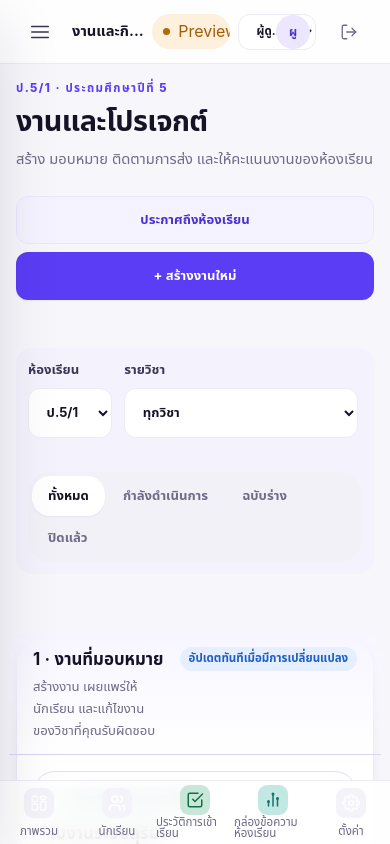
Test: the work form › keeps a deadline preset to the end of the school day
This screenshot has width=390, height=844.
Click the button "+ สร้างงานใหม่": (195, 276) top-left (16, 252), bottom-right (374, 300)
(page scrolled)
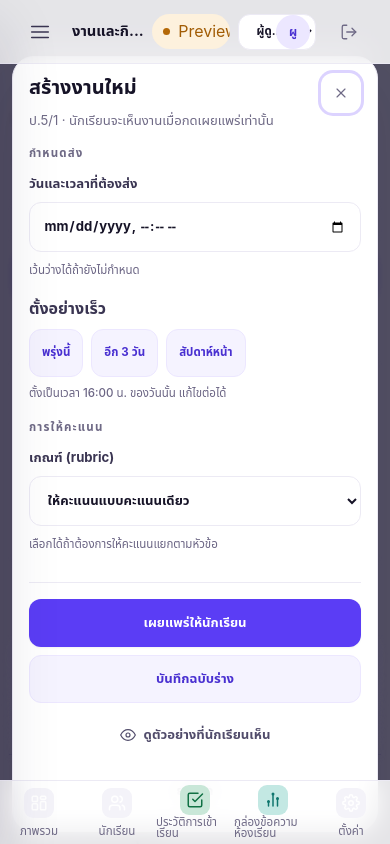
Click the button "พรุ่งนี้": (56, 353) top-left (29, 329), bottom-right (83, 377)
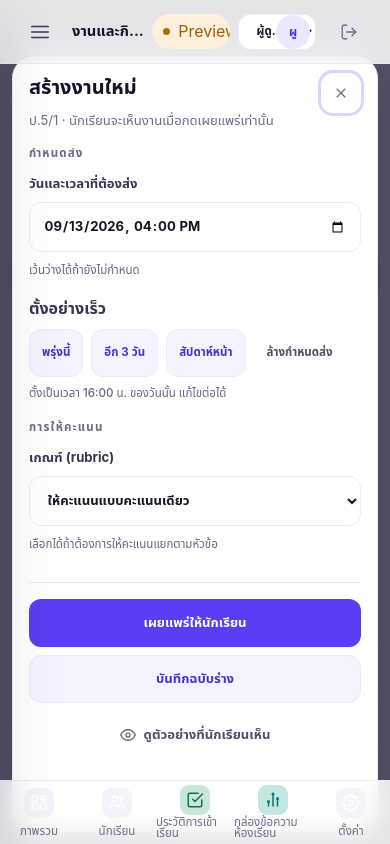
Now the field labelled "วันและเวลาที่ต้องส่ง เว้นว่างได้ถ้ายังไม่กำหนด" is not empty, box top-left (29, 202), bottom-right (361, 252)
